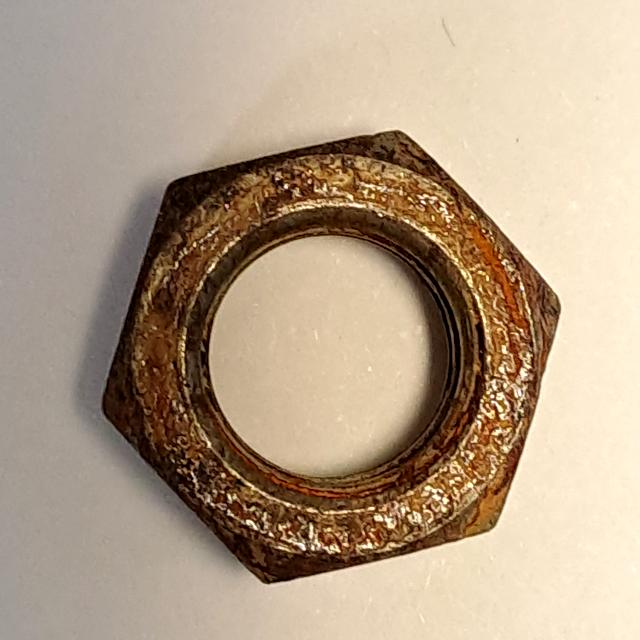Rust: (92, 113, 581, 598)
